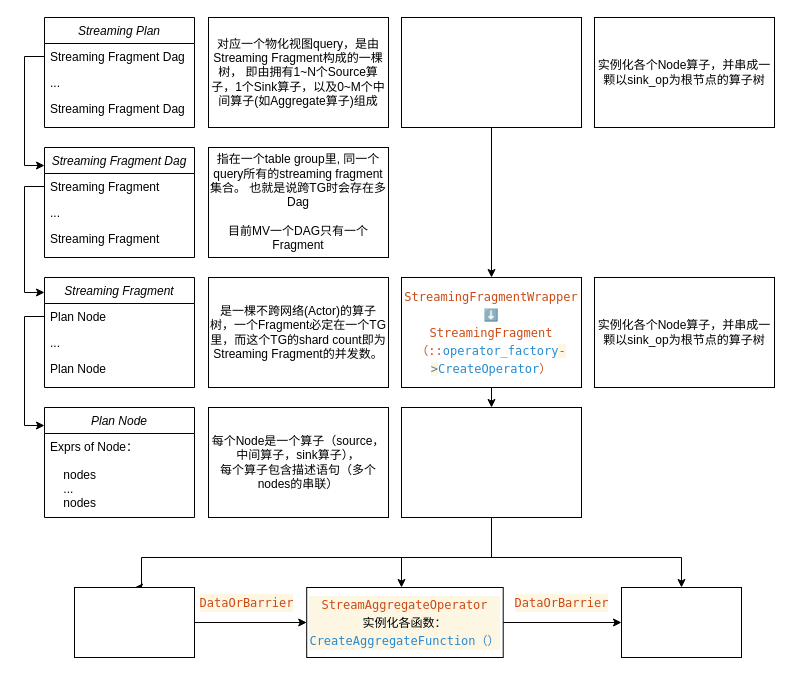
The diagram is 792 pixels wide and 683 high, and some of its shapes have lost their labels. Here are the shapes that lost their labels. From the top down, the centre of each, then its label:
the point at 491,72: StreamingQueryExecutor
the point at 491,462: StreamingOperato rWrapper
the point at 134,622: Source
the point at 681,622: Sink
